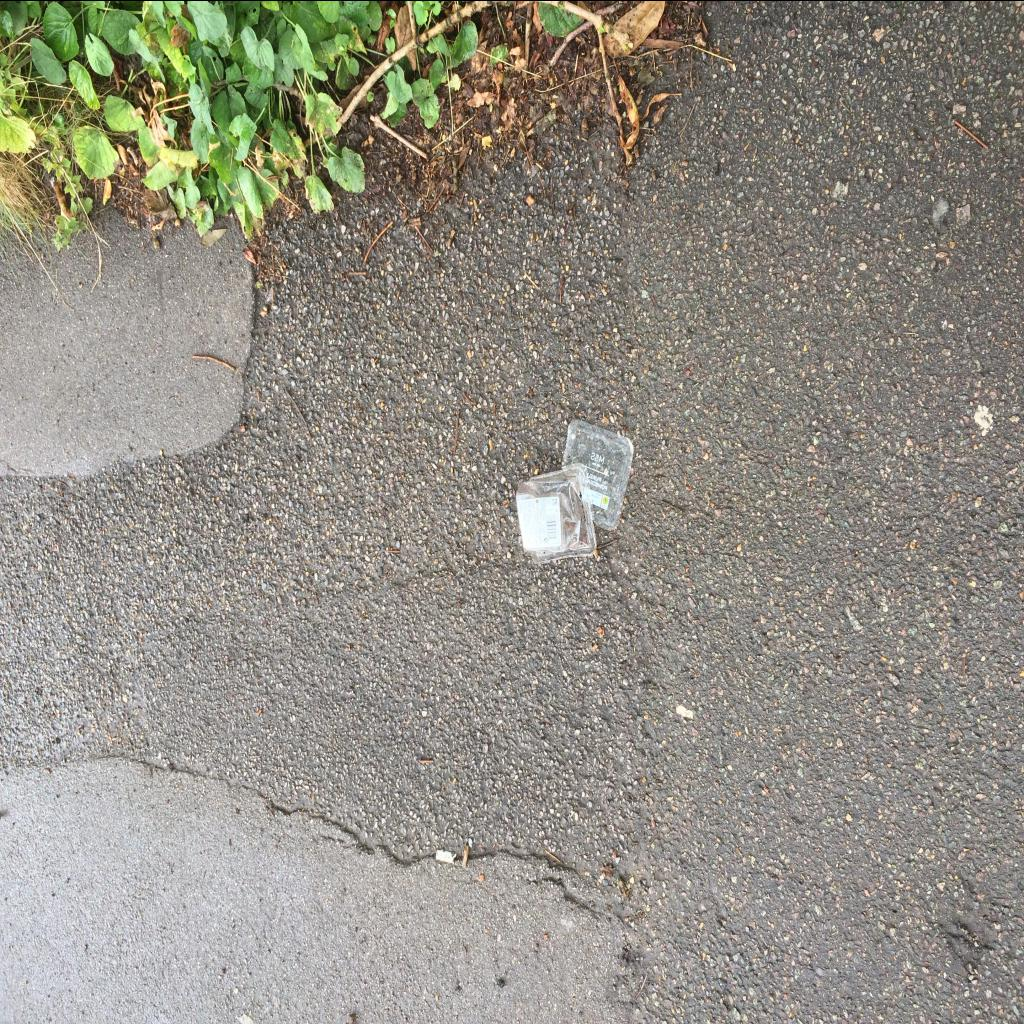Cigarette: (436, 848, 458, 862)
Plastic film: (561, 418, 633, 530)
